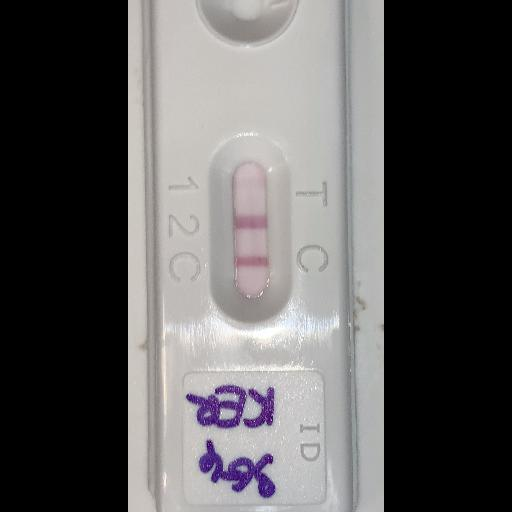Pos: (149, 0, 352, 511)
